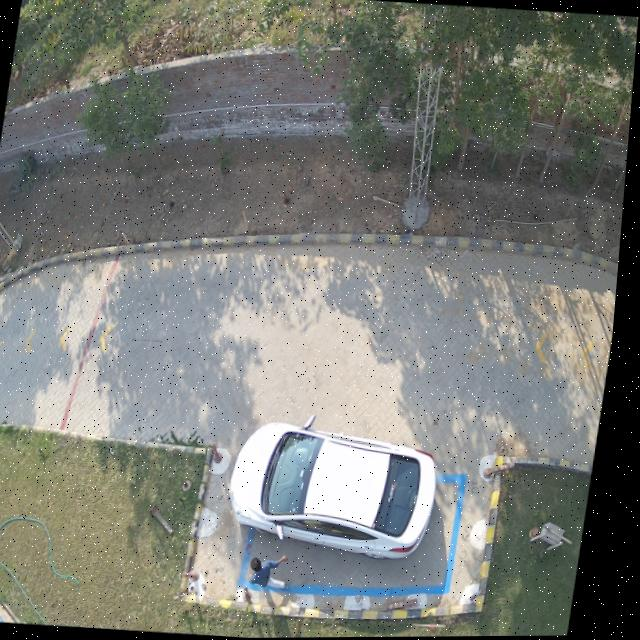car: (238, 422, 445, 558)
